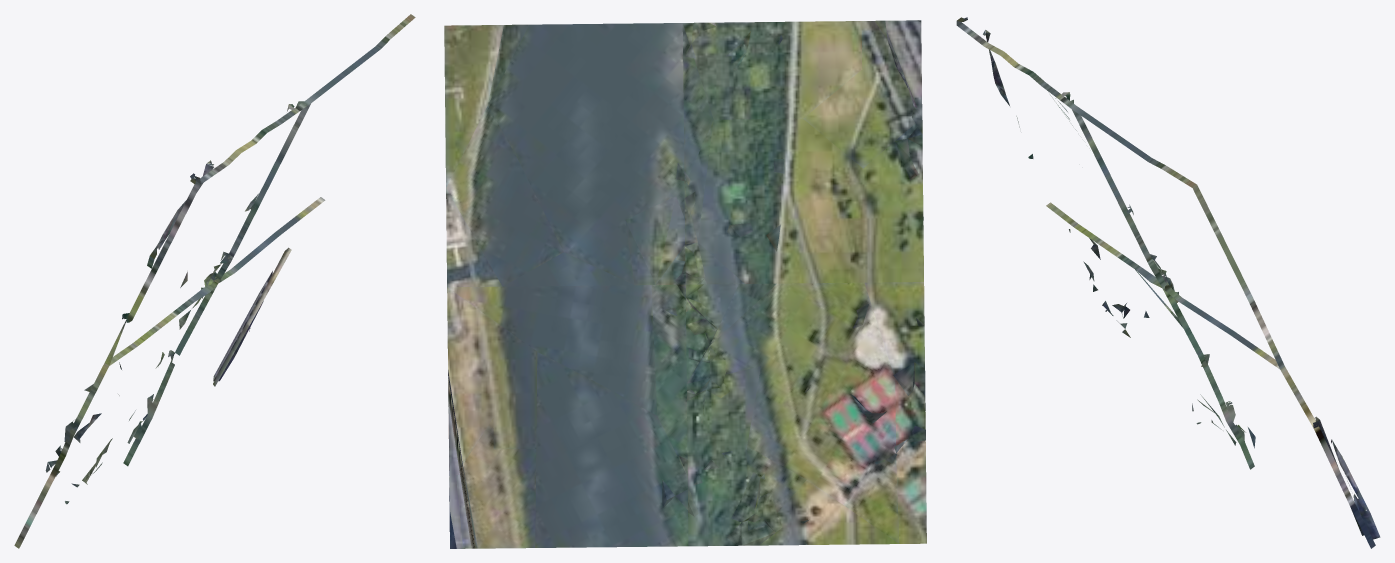
3 views of the same model, side by side, from view 1: azimuth 30°, elevation 25°; view 2: azimuth 150°, elevation 25°; view 3: azimuth 270°, elevation 25° (orthographic). The views are drawn at different scales.
Size of the model in its own units: 610 by 567 by 521.
1 material, 1 textured.
